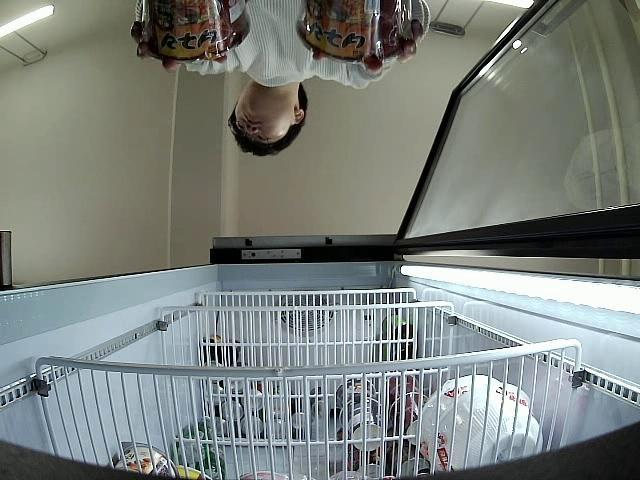05_nuguri_L: (134, 0, 250, 63), (296, 0, 413, 61)
